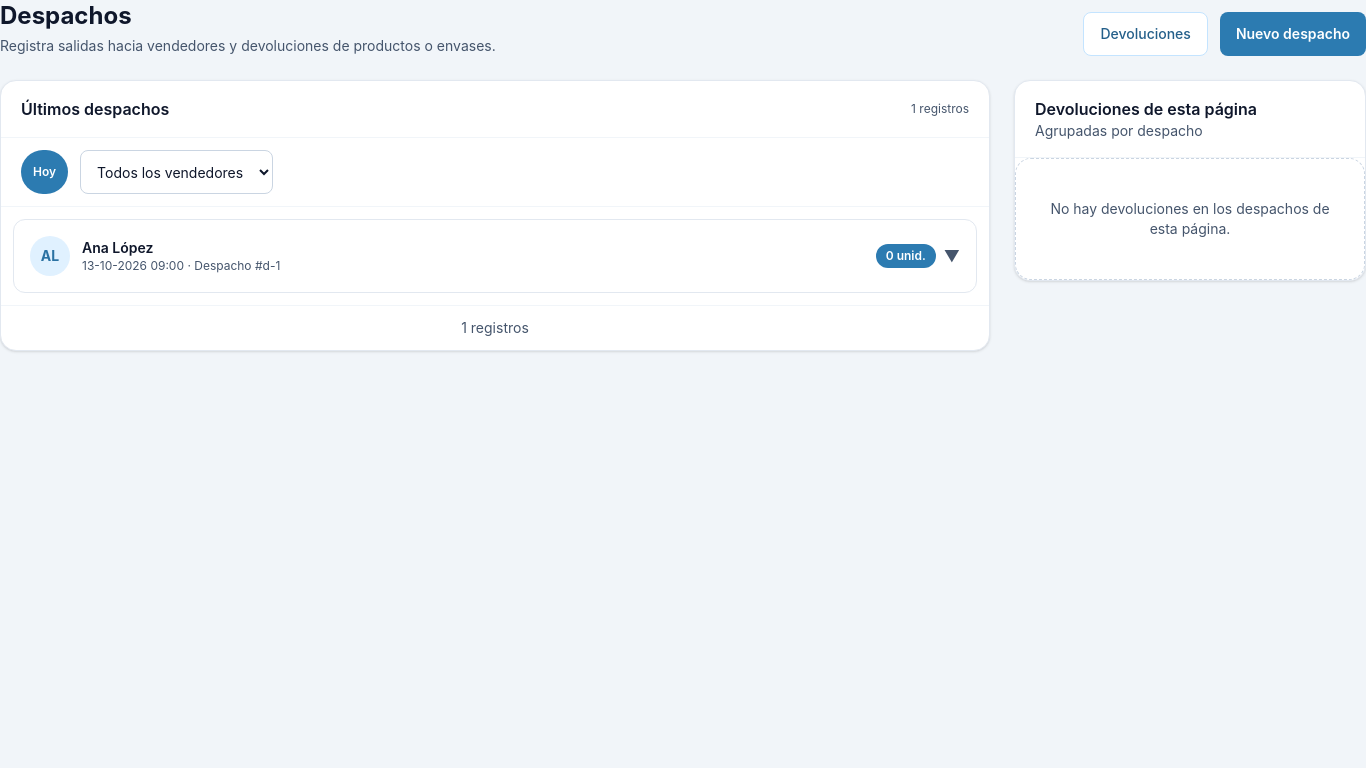
Test: FX R1-02 · conserva lista, modal y borrador durante un refetch fallido
The width and height of the screenshot is (1366, 768).
Expected: the button "AL Ana López 13-10-2026 09:00 · Despacho #d-1 0 unid. ▼" is shown, [14, 220, 976, 292]
Click the button "Nuevo despacho" at (1293, 34), box [1220, 12, 1365, 56]
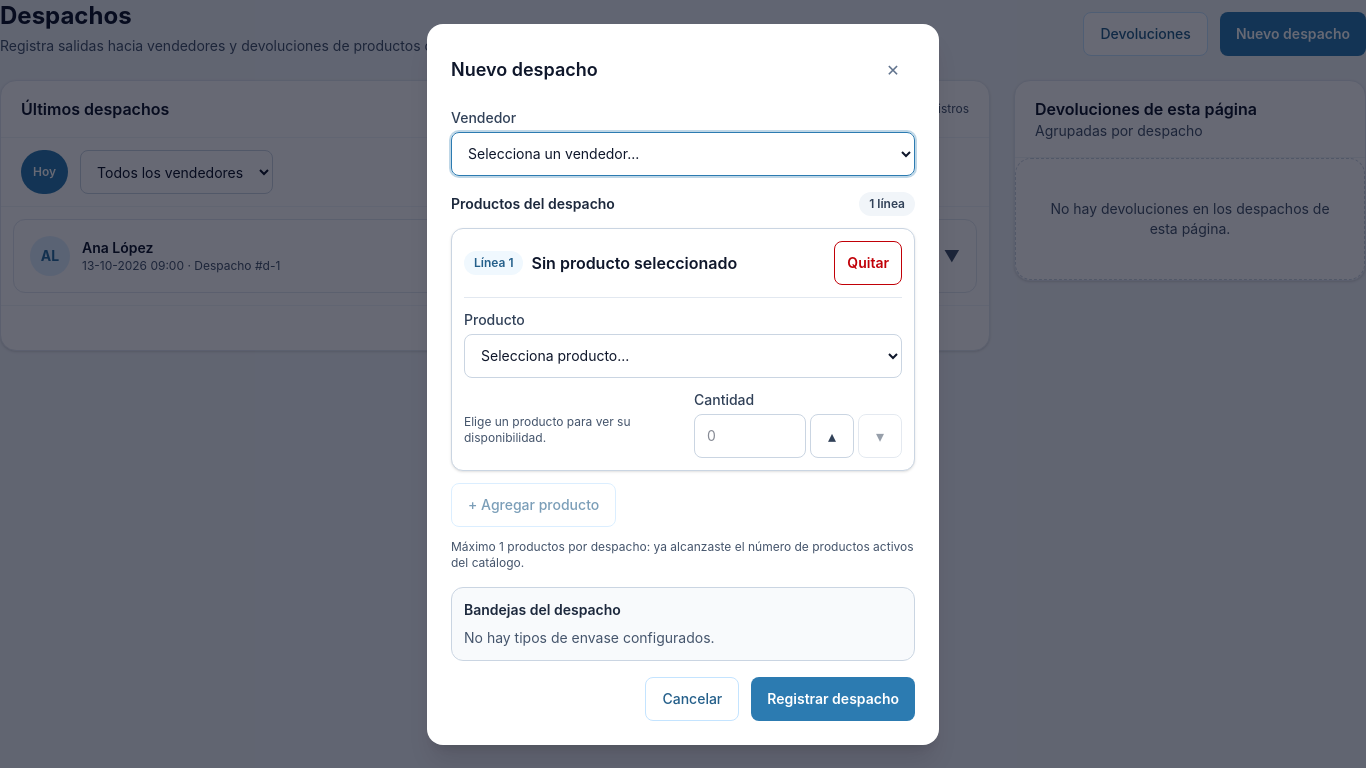
Type "7" into the field labelled "Cantidad" at (750, 436), box [694, 414, 806, 458]
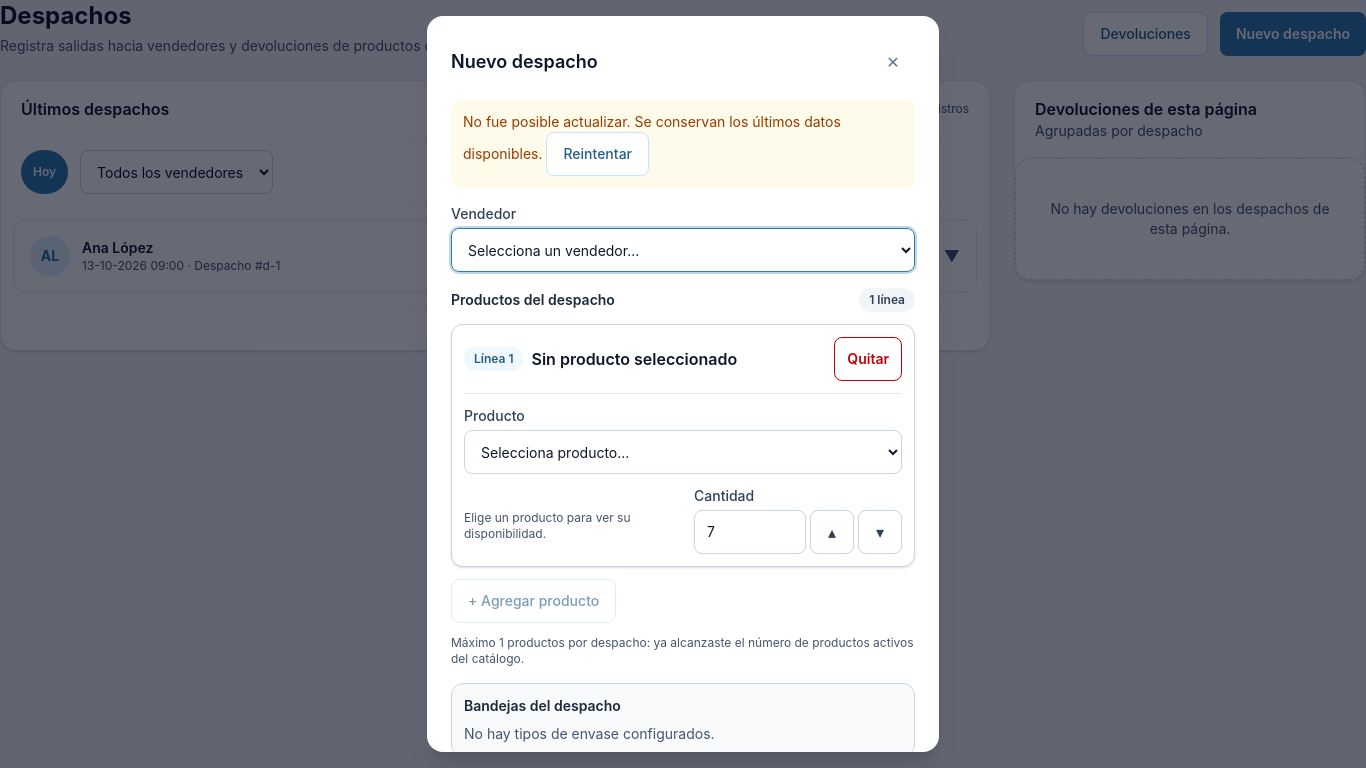
Now the dialog is shown, box [427, 16, 939, 752]
Now the text "No fue posible actualizar" is shown, box [463, 113, 841, 162]
Now the button "Reintentar" is shown, box [546, 132, 649, 176]
